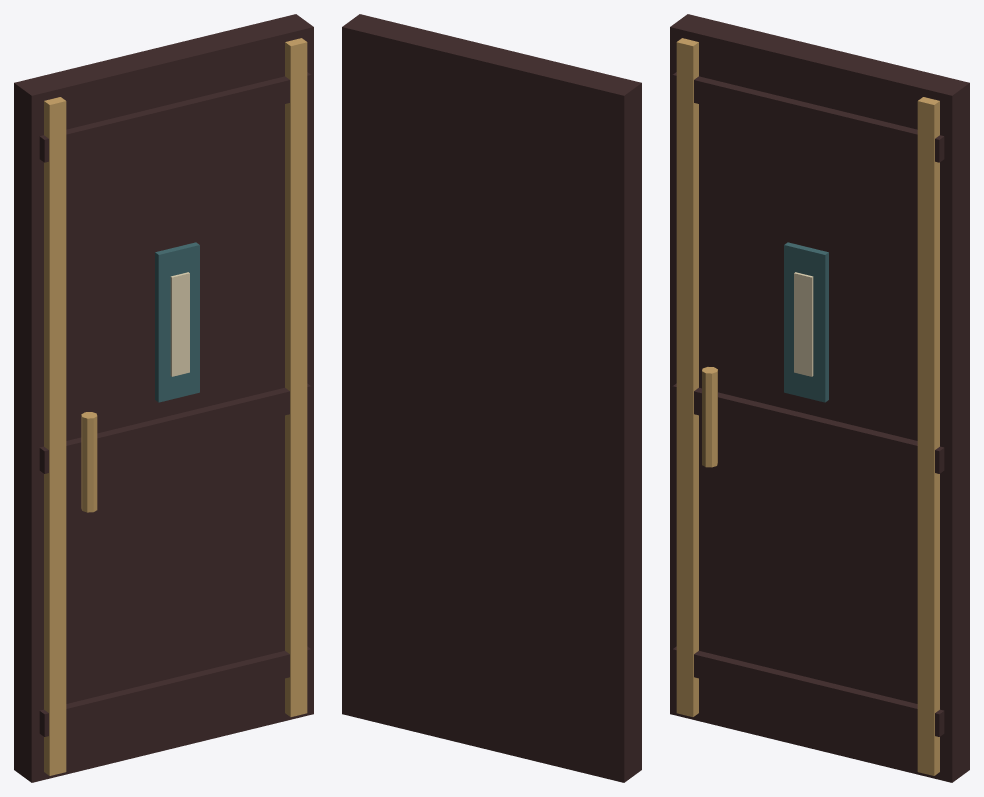
The model's file is archive_gate_right.glb.
The picture shows the model from 3 angles, left to right: view 1: azimuth 30°, elevation 25°; view 2: azimuth 150°, elevation 25°; view 3: azimuth 330°, elevation 25°; orthographic projection.
Visible parts, largest first — view 1: archive_gate_right_Timber, archive_gate_right_Bronze, archive_gate_right_Fabric, archive_gate_right_Plaster; view 2: archive_gate_right_Timber; view 3: archive_gate_right_Timber, archive_gate_right_Bronze, archive_gate_right_Fabric, archive_gate_right_Plaster.
Boxes of the visible parts, x1,y1,x2,y2 form: archive_gate_right_Timber: (14, 14, 313, 782); archive_gate_right_Bronze: (44, 38, 307, 775); archive_gate_right_Fabric: (155, 242, 199, 402); archive_gate_right_Plaster: (170, 272, 189, 376); archive_gate_right_Timber: (342, 14, 641, 782); archive_gate_right_Timber: (670, 14, 969, 782); archive_gate_right_Bronze: (676, 38, 939, 775); archive_gate_right_Fabric: (784, 242, 828, 402); archive_gate_right_Plaster: (794, 272, 813, 376).
Size of the model in its own units: 1.1 by 2.56 by 0.208.
